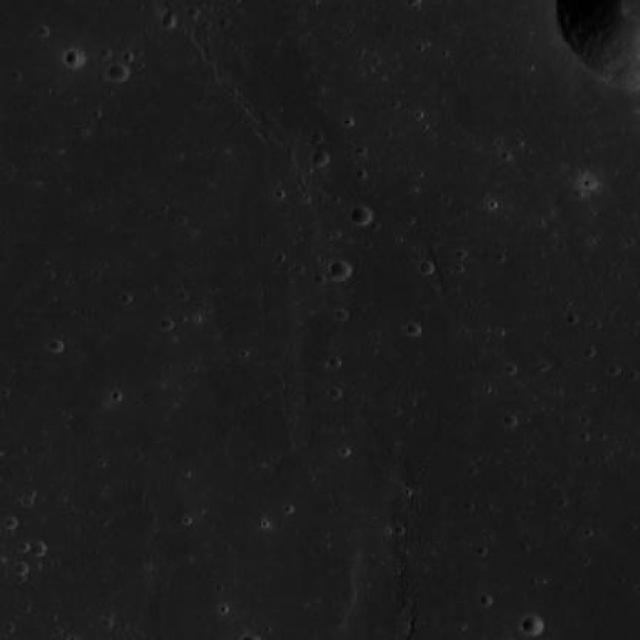crater: (350, 206, 372, 226), (63, 47, 85, 67), (329, 258, 351, 278), (522, 616, 542, 635), (108, 61, 128, 80), (310, 148, 328, 164), (28, 539, 46, 555)
